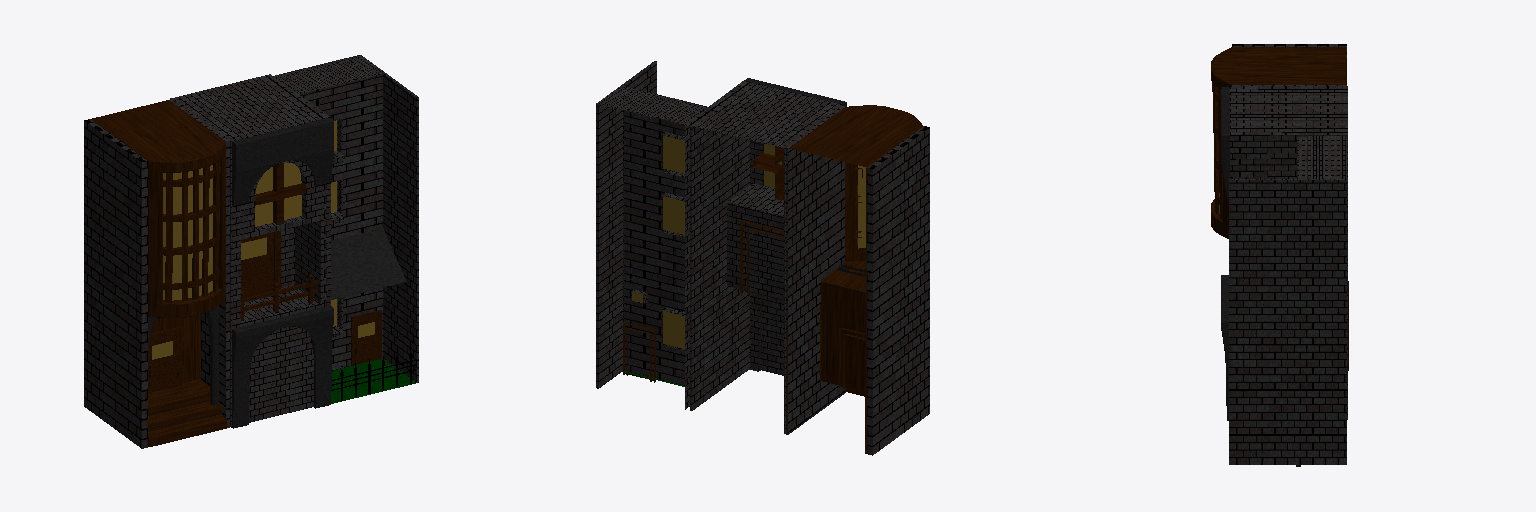
3 views of the same model, side by side, from view 1: azimuth 30°, elevation 25°; view 2: azimuth 150°, elevation 25°; view 3: azimuth 270°, elevation 25° (orthographic).
Visible parts, largest first — view 1: sub4.003, sub5.003, sub3.002, door_bake.016, door_bake.015, door_bake.014; view 2: sub4.003, sub3.002, sub5.003, door_bake.016; view 3: sub3.002, sub5.003, sub4.003.
Boxes of the visible parts, box(x1,y1,x2,y2) form: sub4.003: box(84, 99, 229, 448); sub5.003: box(170, 74, 333, 428); sub3.002: box(274, 55, 418, 403); door_bake.016: box(241, 230, 280, 297); door_bake.015: box(148, 326, 182, 392); door_bake.014: box(351, 310, 381, 365); sub4.003: box(784, 105, 929, 455); sub3.002: box(596, 61, 750, 410); sub5.003: box(685, 78, 846, 433); door_bake.016: box(740, 220, 783, 299); sub3.002: box(1229, 136, 1346, 464); sub5.003: box(1221, 86, 1347, 420); sub4.003: box(1211, 44, 1348, 370).
Bounding box in the file's own units: 16.09 × 16.14 × 6.94.
4 materials, 4 textured.